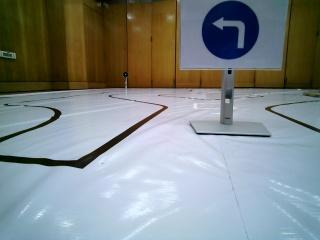left: (182, 3, 287, 69)
